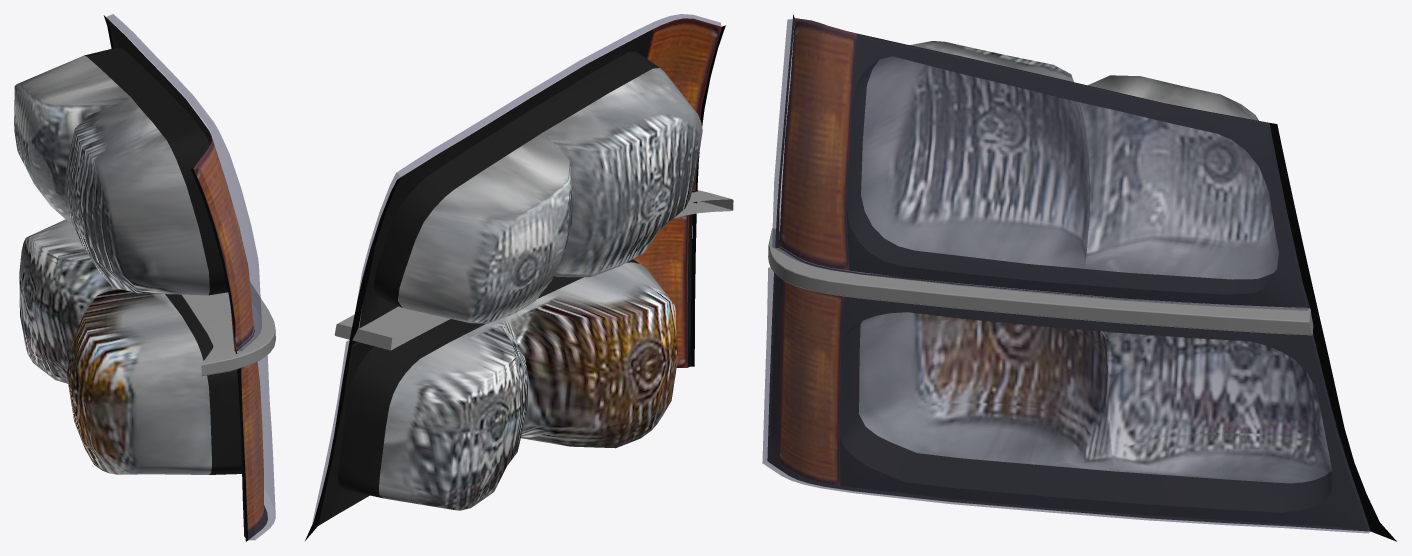
The picture shows the model from 3 angles, left to right: view 1: azimuth 30°, elevation 25°; view 2: azimuth 150°, elevation 25°; view 3: azimuth 270°, elevation 25°; orthographic projection. The views are drawn at different scales.
Parts seen in each view (by area): view 1: U803_3A_061B_R_U803_3A_061B_R_4_N, U803_3A_061B_R_U803_3A_061B_R_5_N, U803_3A_061B_R_U803_3A_061B_R_2_DTaSI, U803_3A_061B_R_U803_3A_061B_R_3_DTaSI, U803_3A_061B_R_1_DaS_U803_3A_061B_R, U803_3A_061B_R_U803_3A_061B_R_6_D; view 2: U803_3A_061B_R_U803_3A_061B_R_4_N, U803_3A_061B_R_U803_3A_061B_R_5_N, U803_3A_061B_R_1_DaS_U803_3A_061B_R, U803_3A_061B_R_U803_3A_061B_R_6_D, U803_3A_061B_R_U803_3A_061B_R_2_DTaSI, U803_3A_061B_R_U803_3A_061B_R_3_DTaSI; view 3: U803_3A_061B_R_U803_3A_061B_R_4_N, U803_3A_061B_R_U803_3A_061B_R_3_DTaSI, U803_3A_061B_R_U803_3A_061B_R_2_DTaSI, U803_3A_061B_R_U803_3A_061B_R_5_N, U803_3A_061B_R_1_DaS_U803_3A_061B_R, U803_3A_061B_R_U803_3A_061B_R_6_D.
Part boxes in pixels (bbox=[...]): U803_3A_061B_R_U803_3A_061B_R_4_N: bbox=[14, 17, 253, 350]; U803_3A_061B_R_U803_3A_061B_R_5_N: bbox=[19, 219, 267, 539]; U803_3A_061B_R_U803_3A_061B_R_2_DTaSI: bbox=[106, 14, 261, 351]; U803_3A_061B_R_U803_3A_061B_R_3_DTaSI: bbox=[241, 355, 275, 540]; U803_3A_061B_R_1_DaS_U803_3A_061B_R: bbox=[182, 282, 275, 376]; U803_3A_061B_R_U803_3A_061B_R_6_D: bbox=[103, 15, 254, 541]; U803_3A_061B_R_U803_3A_061B_R_4_N: bbox=[359, 18, 721, 328]; U803_3A_061B_R_U803_3A_061B_R_5_N: bbox=[318, 214, 692, 525]; U803_3A_061B_R_1_DaS_U803_3A_061B_R: bbox=[334, 190, 733, 350]; U803_3A_061B_R_U803_3A_061B_R_6_D: bbox=[305, 25, 725, 540]; U803_3A_061B_R_U803_3A_061B_R_2_DTaSI: bbox=[357, 14, 721, 326]; U803_3A_061B_R_U803_3A_061B_R_3_DTaSI: bbox=[312, 340, 349, 522]; U803_3A_061B_R_U803_3A_061B_R_4_N: bbox=[779, 18, 1309, 307]; U803_3A_061B_R_U803_3A_061B_R_3_DTaSI: bbox=[762, 267, 1370, 533]; U803_3A_061B_R_U803_3A_061B_R_2_DTaSI: bbox=[772, 18, 1309, 310]; U803_3A_061B_R_U803_3A_061B_R_5_N: bbox=[769, 274, 1370, 531]; U803_3A_061B_R_1_DaS_U803_3A_061B_R: bbox=[768, 228, 1313, 335]; U803_3A_061B_R_U803_3A_061B_R_6_D: bbox=[767, 14, 1396, 541].
Bounding box in the file's own units: 15.54 × 28.37 × 36.78.
